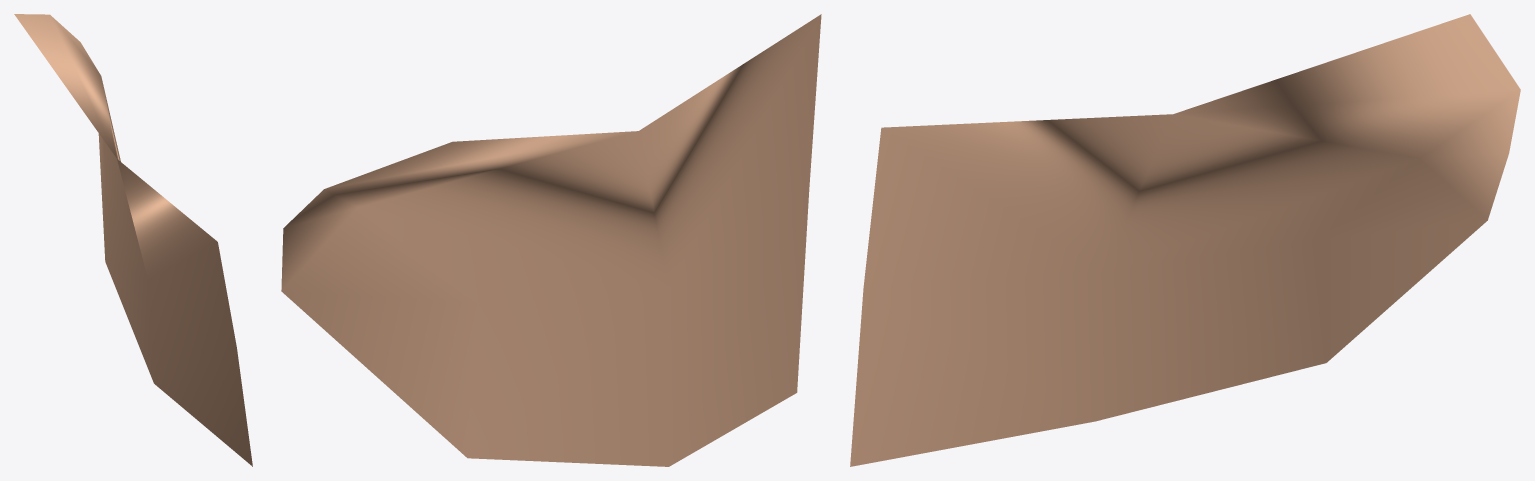
File: anal-region-l.glb
3 views of the same model, side by side, from view 1: azimuth 30°, elevation 25°; view 2: azimuth 150°, elevation 25°; view 3: azimuth 270°, elevation 25° (orthographic). The views are drawn at different scales.
Visible parts, largest first — view 1: Anal region.l; view 2: Anal region.l; view 3: Anal region.l.
Part boxes in pixels (left/top/right/bottom): Anal region.l: left=14, top=14, right=252, bottom=466; Anal region.l: left=281, top=14, right=821, bottom=466; Anal region.l: left=850, top=14, right=1520, bottom=466.
Bounding box in the file's own units: 0.013 × 0.0424 × 0.0591.
